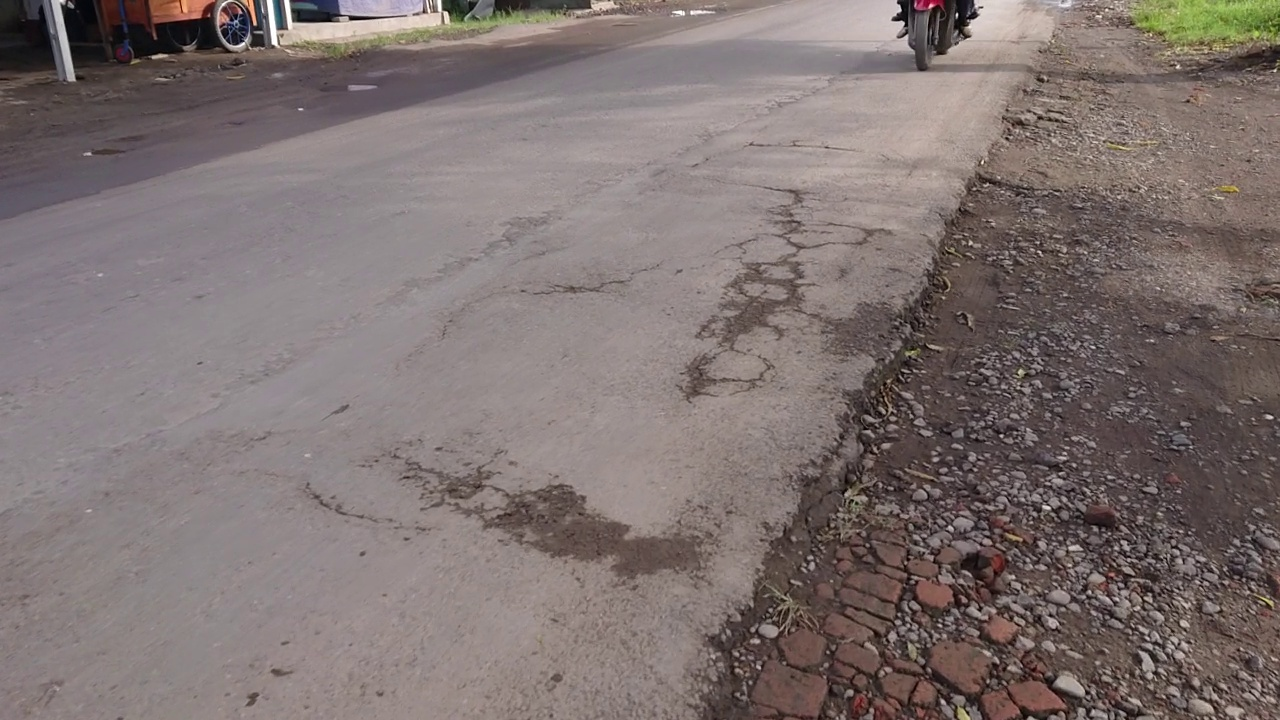Retak: (379, 437, 680, 571), (675, 198, 840, 406)
